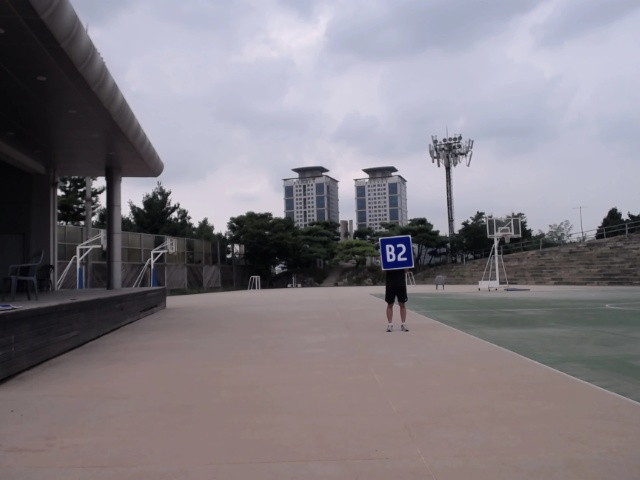delivery_b2: (380, 236, 414, 272)
